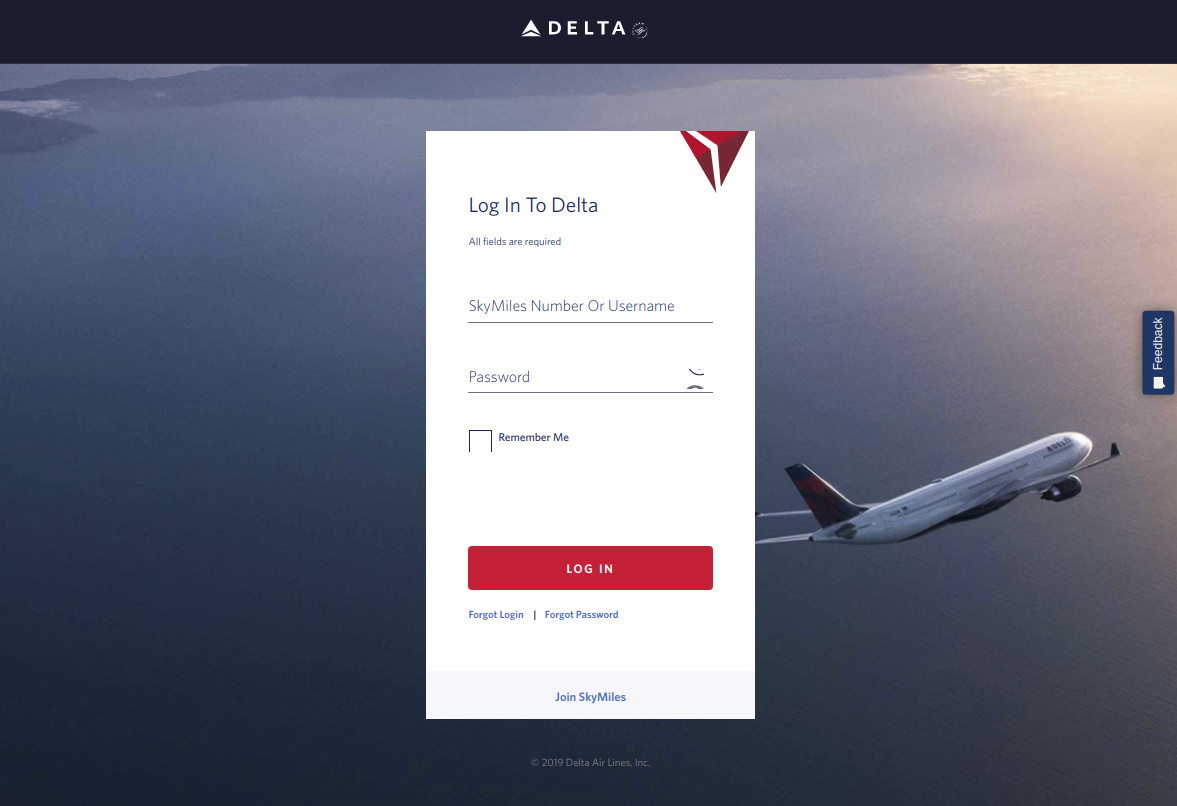Delta Airlines: (519, 14, 627, 45)
